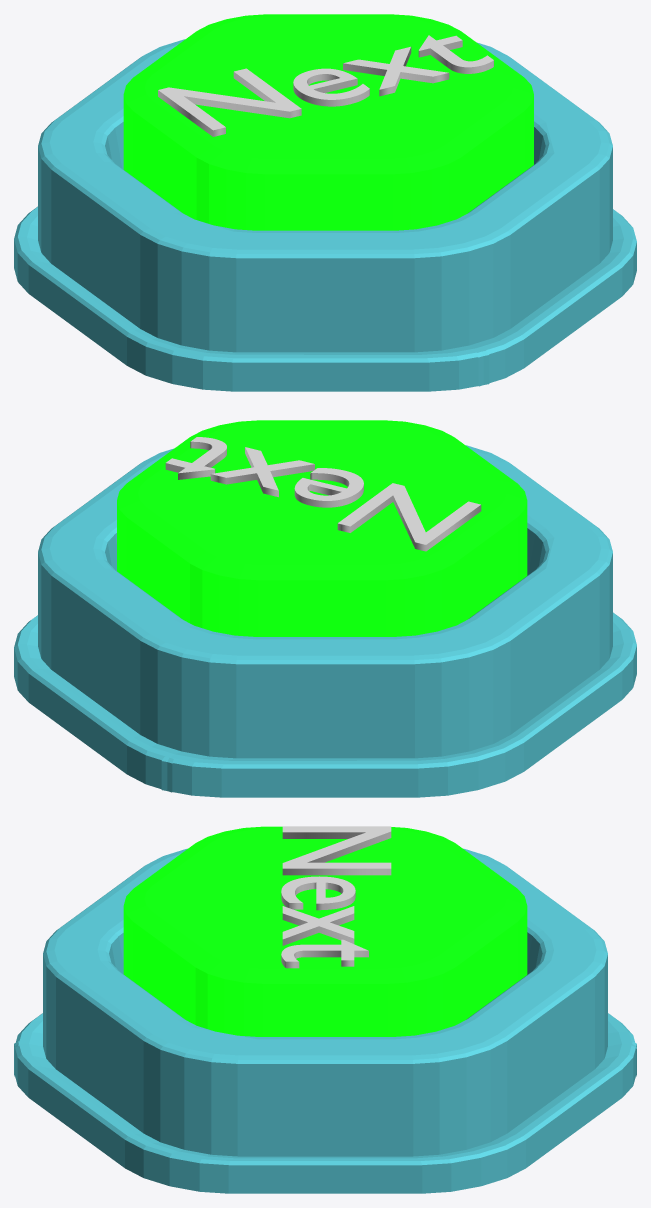
File: NextButtonV1.0 (1).fbx
The picture shows the model from 3 angles, top to bottom: view 1: azimuth 30°, elevation 25°; view 2: azimuth 150°, elevation 25°; view 3: azimuth 270°, elevation 25°; orthographic projection.
Parts seen in each view (by area): view 1: Cylinder.001, Cylinder, Text; view 2: Cylinder.001, Cylinder, Text; view 3: Cylinder.001, Cylinder, Text.
Part boxes in pixels (x1,y1,x2,y2): Cylinder.001: [14, 39, 636, 391]; Cylinder: [123, 14, 533, 230]; Text: [158, 35, 493, 136]; Cylinder.001: [14, 445, 636, 797]; Cylinder: [117, 420, 527, 636]; Text: [165, 437, 481, 551]; Cylinder.001: [14, 848, 636, 1193]; Cylinder: [123, 826, 527, 1036]; Text: [281, 826, 391, 968].
Bounding box in the file's own units: 262 × 94.73 × 290.
